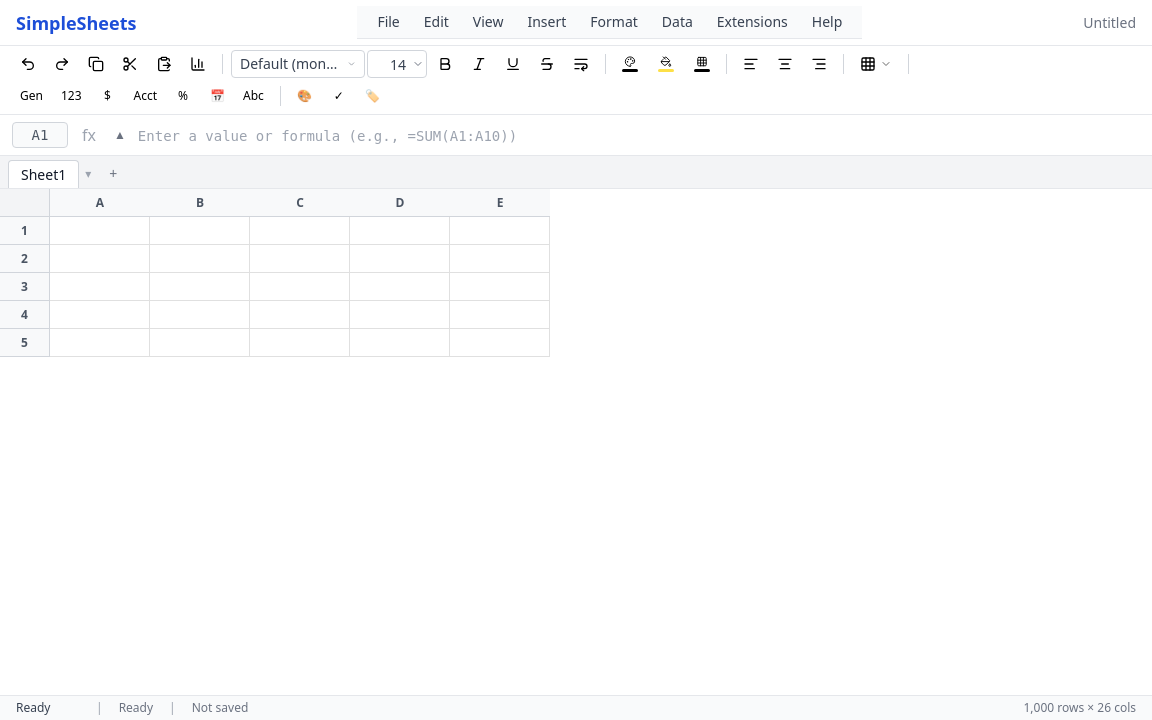
App › opens Insert menu and shows row/column items
The image size is (1152, 720).
Step 1. Click the button "Insert" → (547, 22), box [516,8,578,36]
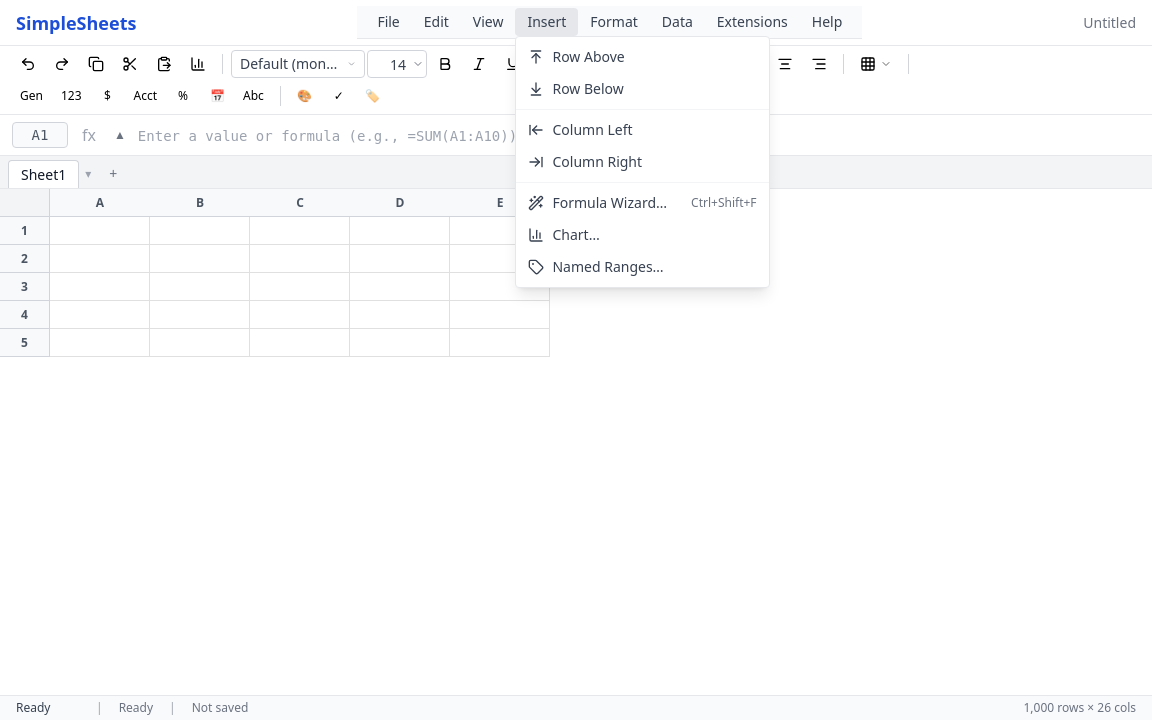
Expected: the text "Row Above" is shown, [552,47,625,66]
Expected: the text "Row Below" is shown, [552,79,624,98]
Expected: the text "Column Left" is shown, [552,120,633,139]
